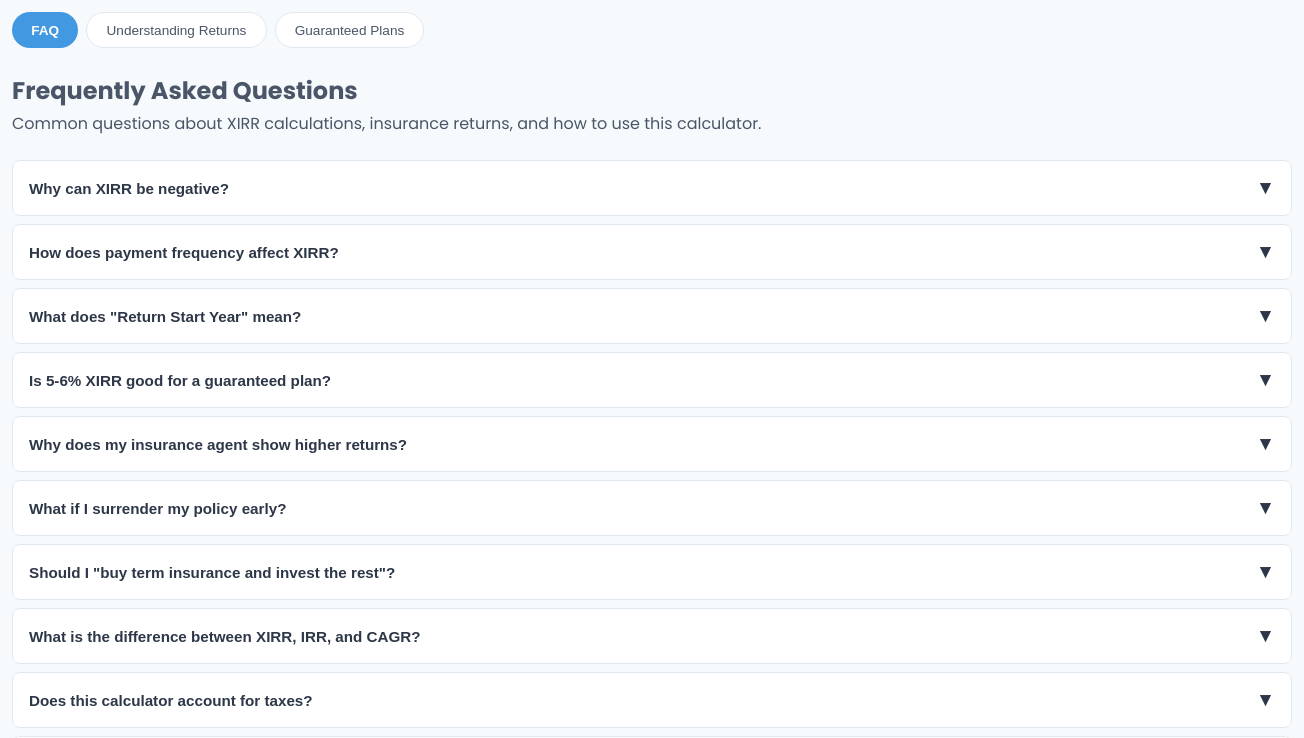
Test: LearnSection Component › switches to Guaranteed Plans when clicked
The width and height of the screenshot is (1304, 738).
Step 1. Click the button "Guaranteed Plans" → (350, 30), box [274,12,424,48]
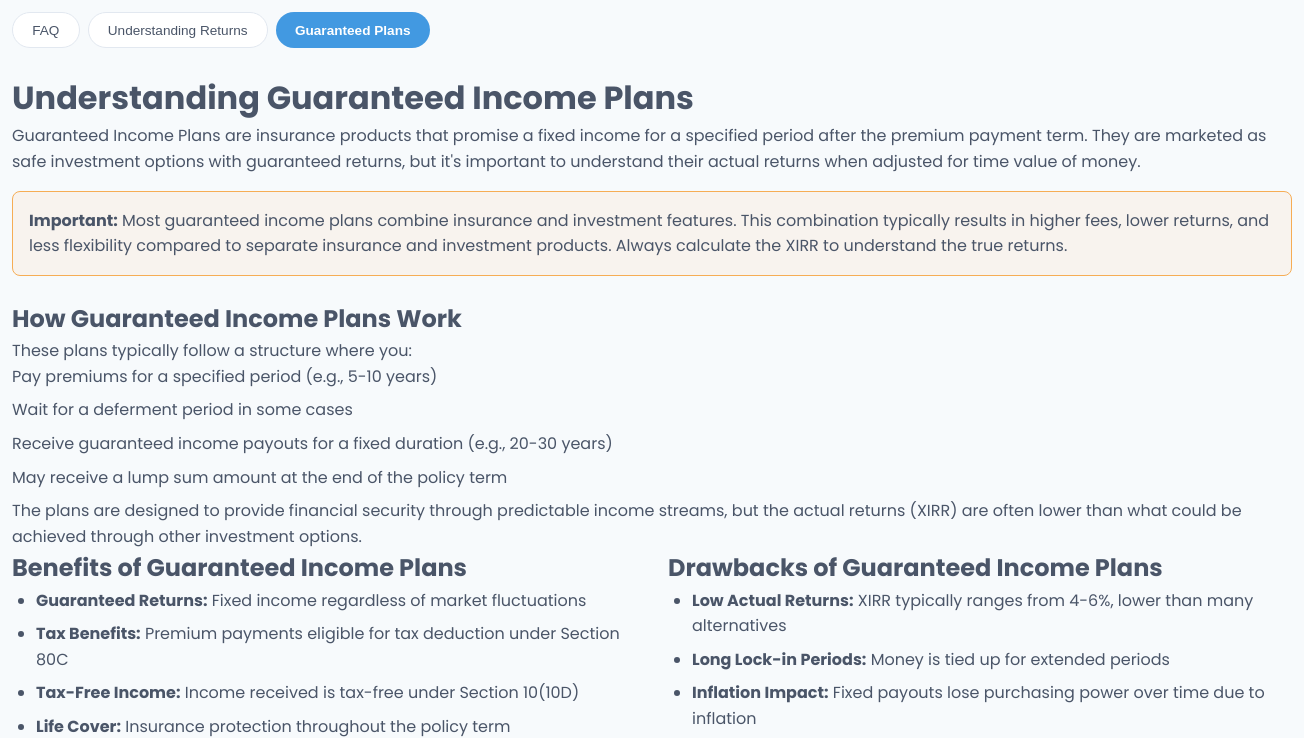
Expected: the heading "Frequently Asked Questions" is gone
